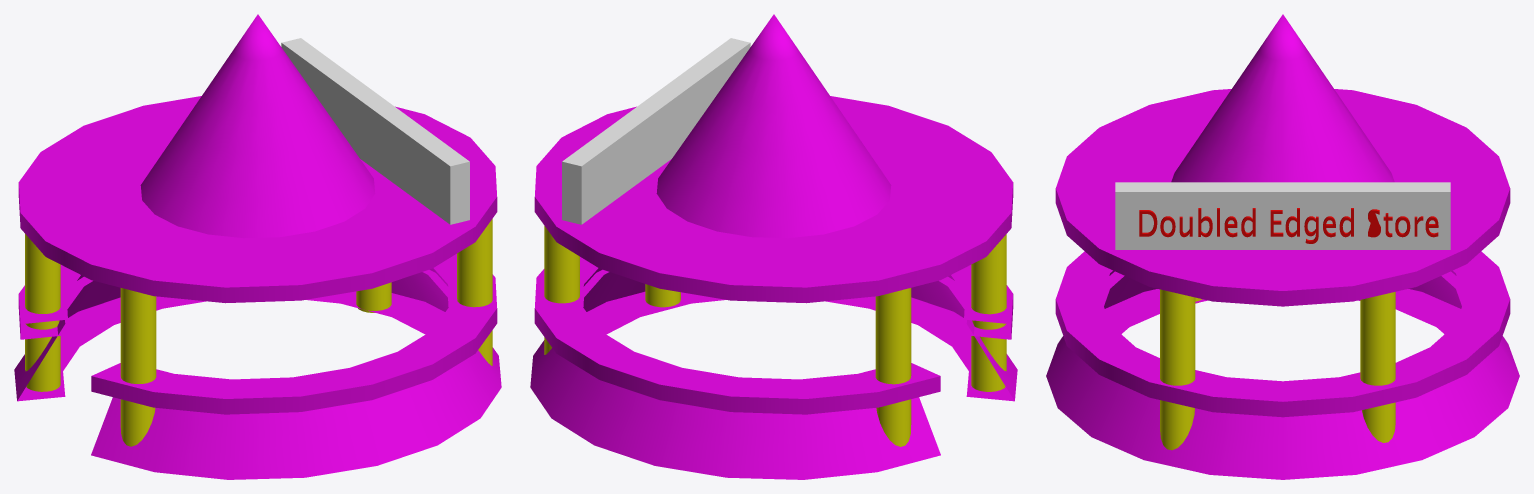
File: doubledEdgeStoreObj.fbx
3 views of the same model, side by side, from view 1: azimuth 30°, elevation 25°; view 2: azimuth 150°, elevation 25°; view 3: azimuth 270°, elevation 25° (orthographic).
Visible parts, largest first — view 1: doubledEdgeStoreObj; view 2: doubledEdgeStoreObj; view 3: doubledEdgeStoreObj.
Boxes of the visible parts, box(x1,y1,x2,y2) form: doubledEdgeStoreObj: box(14, 14, 501, 479); doubledEdgeStoreObj: box(530, 14, 1017, 479); doubledEdgeStoreObj: box(1046, 14, 1519, 479).
Bounding box in the file's own units: 10.01 × 8.21 × 9.69.
